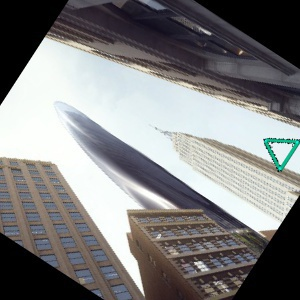triangle: (262, 136, 300, 175)
